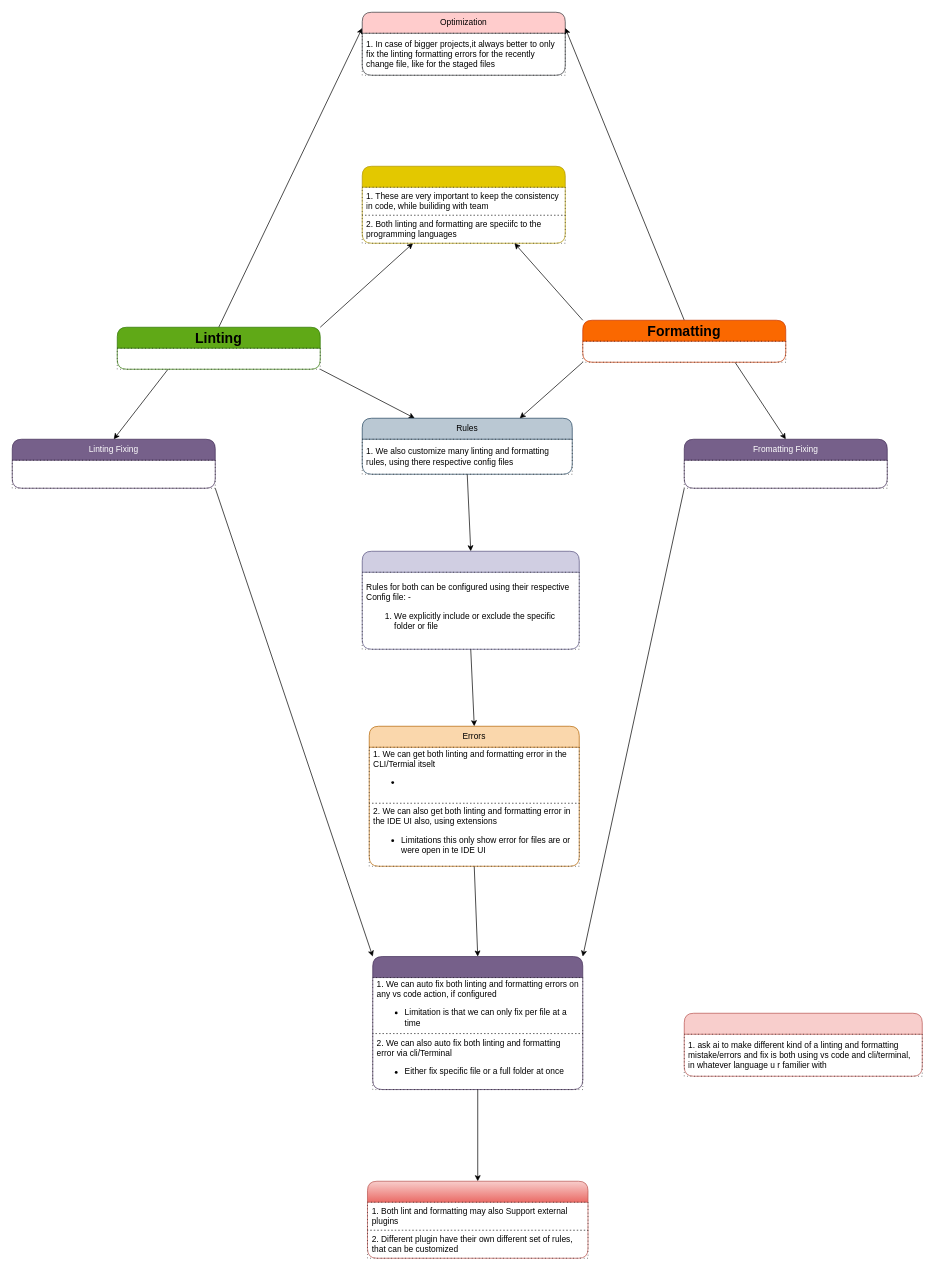
Some shapes in this 935 by 1271 pixel diagram are drawn without their labels. Here are the shapes that lost their labels. From the top down, the box of each, then its label:
(362, 166, 565, 243): Need!!
(117, 348, 320, 369): 1. Linting is the analysis of the static code
(582, 341, 786, 362): 1. Formatting means organising the code
(12, 460, 215, 488): 1. InCase of linting, only fixable changes can only be auto fixed
(684, 460, 887, 488): 1. All kind of formatting can be auto fixed
(362, 551, 579, 649): Config FIles
(372, 956, 583, 1090): Fixing
(684, 1013, 922, 1076): Practicals to to
(367, 1181, 588, 1258): Plugings
